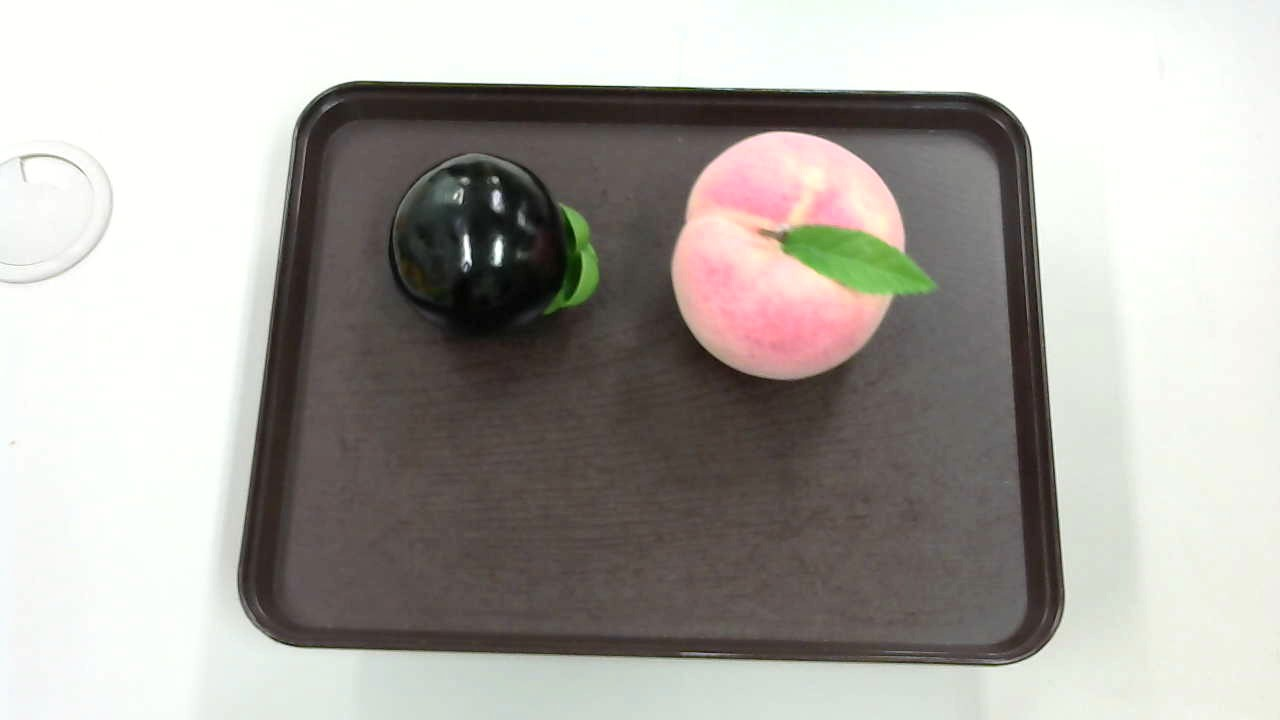mangosteen: (389, 149, 605, 339)
peach: (658, 128, 945, 388)
